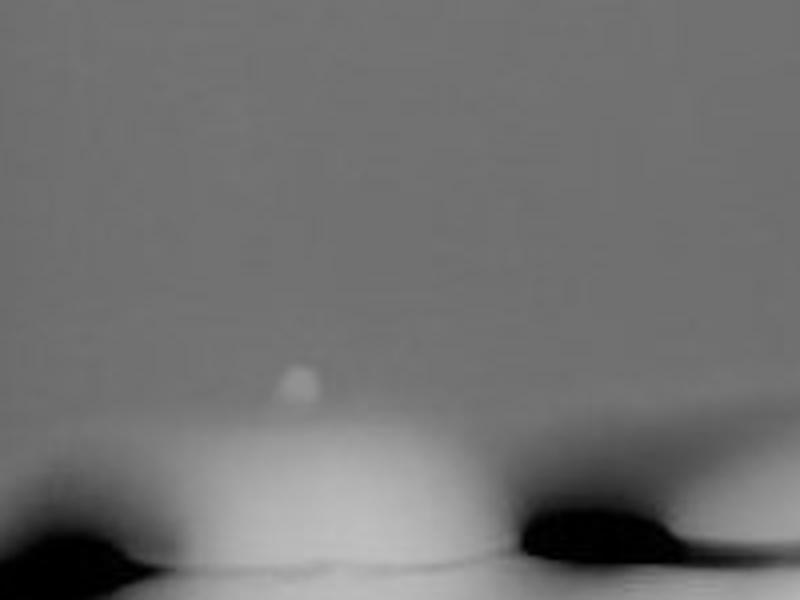defect: (522, 499, 686, 568), (6, 522, 154, 594)
